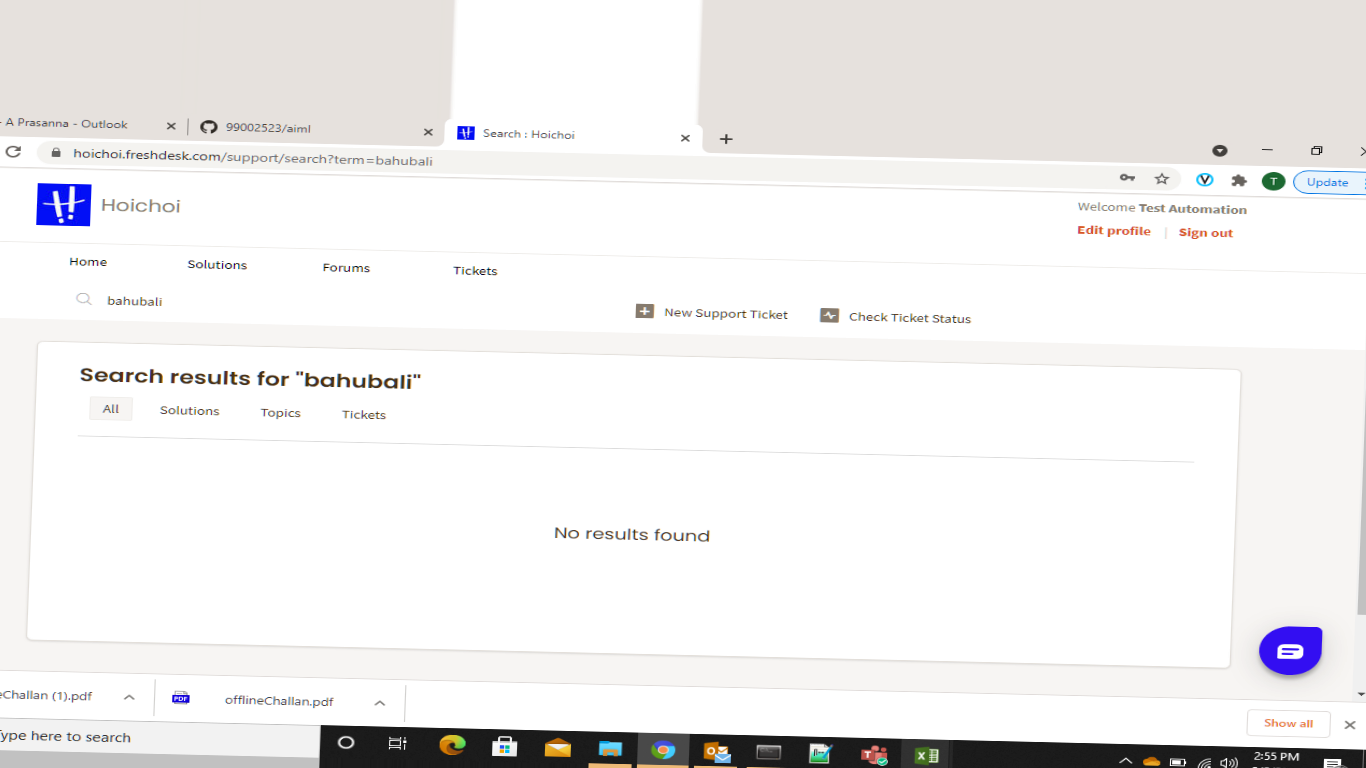noresultsfound: (492, 494, 749, 562)
profileicon: (1072, 215, 1153, 251)
searchicon: (67, 283, 96, 314)
searchtextbox: (68, 282, 492, 329)
